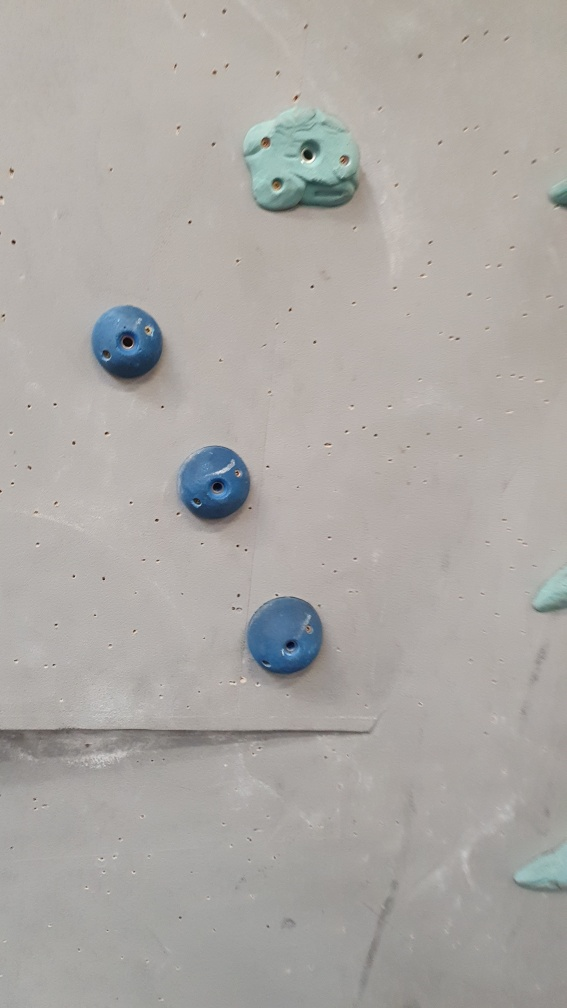Sloper: (240, 582, 331, 680), (169, 439, 263, 528), (94, 291, 169, 385)
